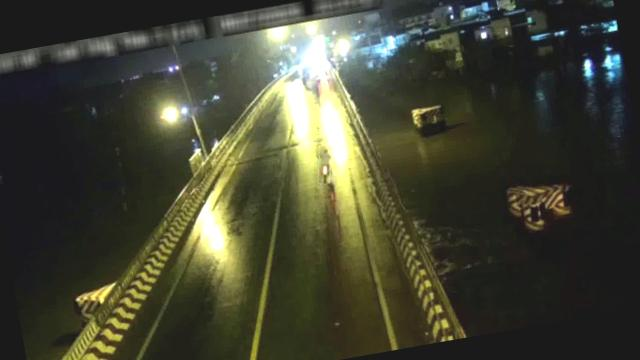Bike: (314, 144, 337, 185)
